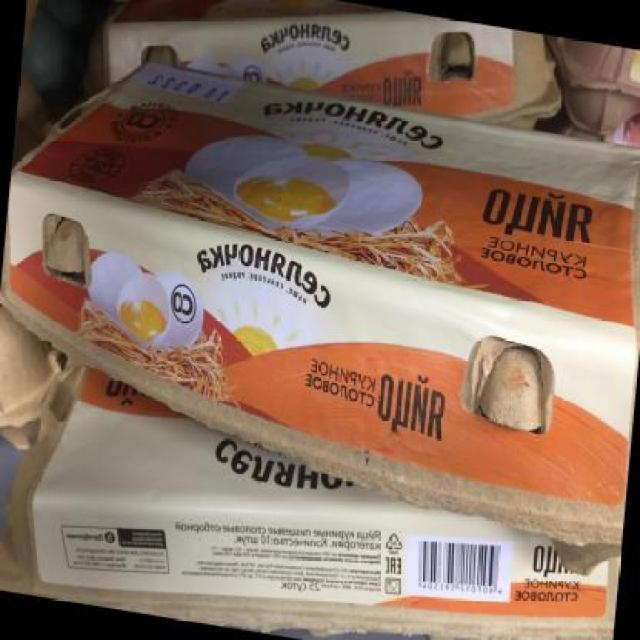Egg: (0, 49, 640, 551), (80, 0, 562, 142), (540, 35, 640, 150)
